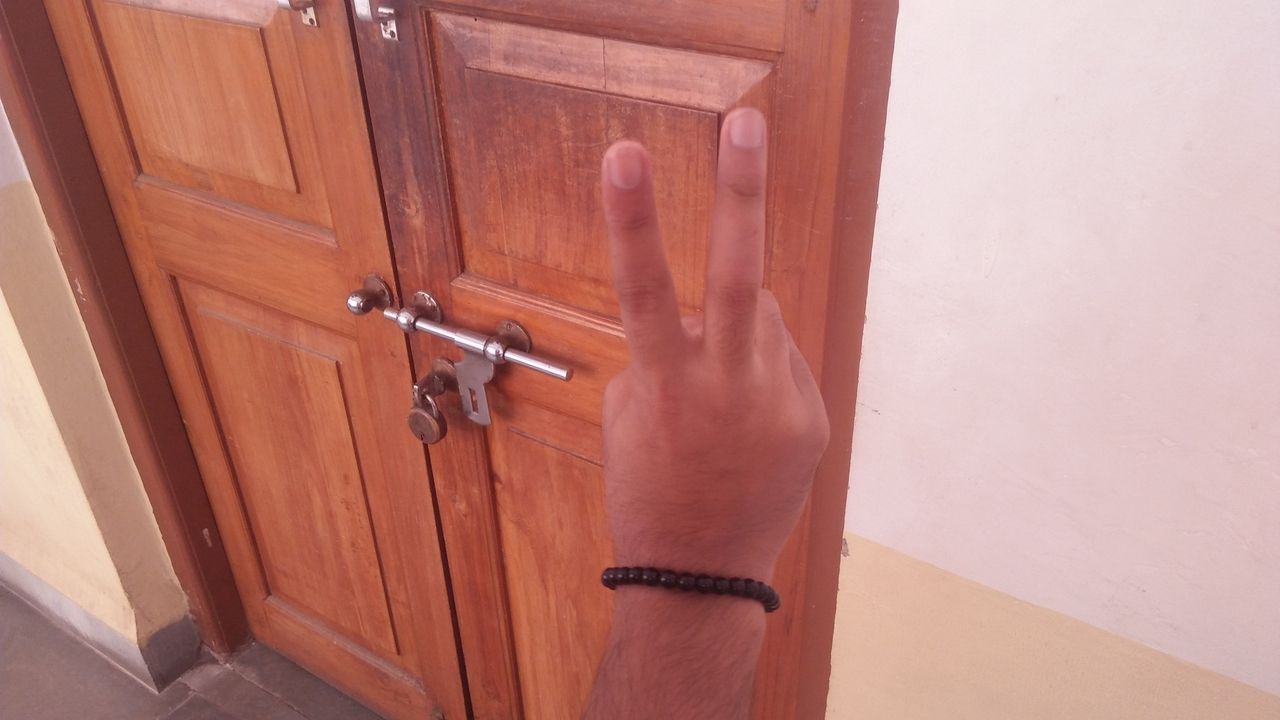fingertip: (708, 102, 774, 162), (594, 136, 656, 198)
